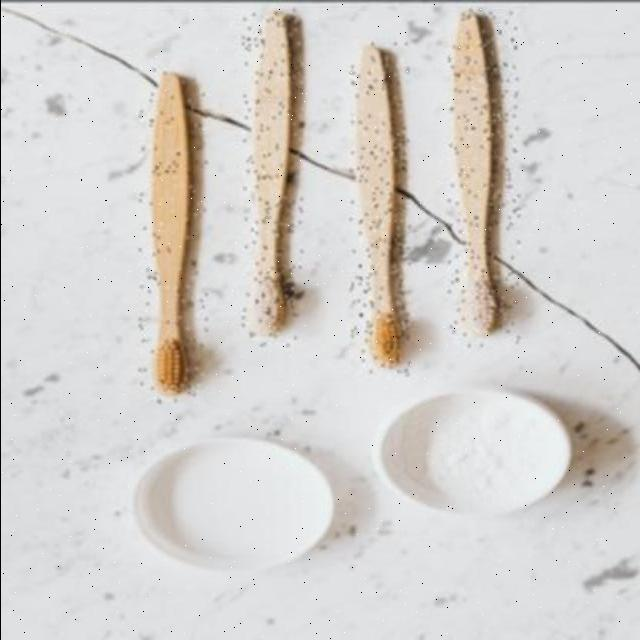toothbrush: (448, 8, 518, 346), (138, 66, 206, 400), (349, 38, 409, 380), (242, 8, 302, 344)
